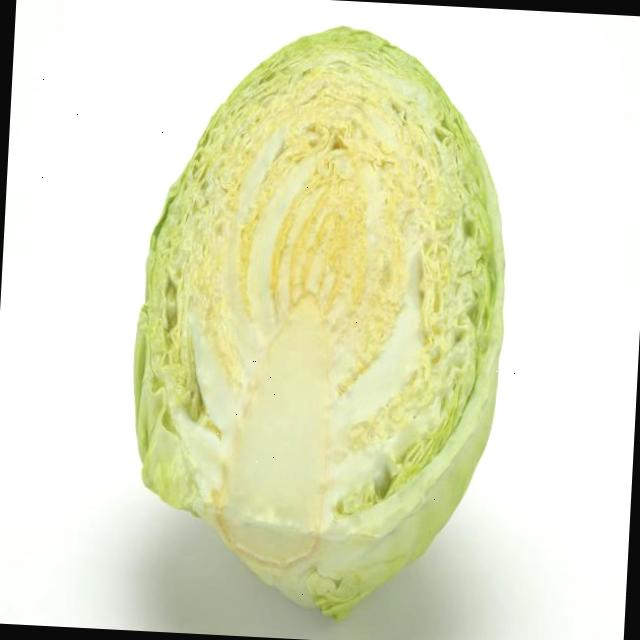cabbage: (114, 9, 526, 634)
